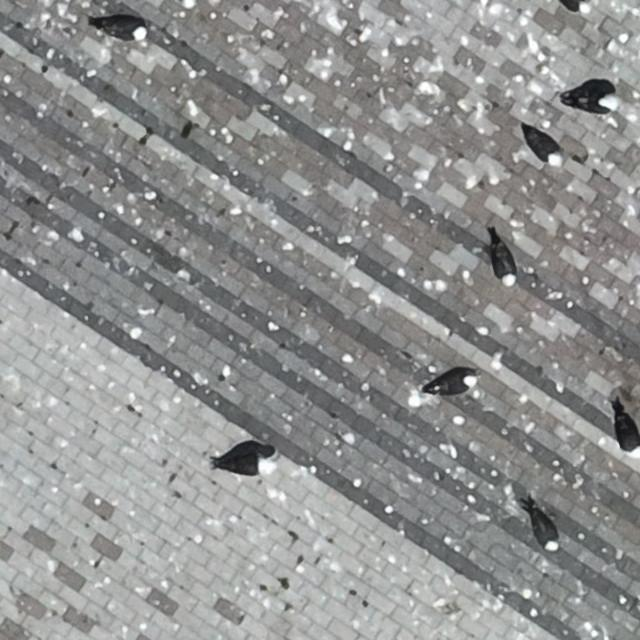umineko: (221, 452, 271, 474), (529, 131, 561, 162), (100, 17, 146, 38), (431, 373, 474, 394), (617, 415, 639, 455), (567, 92, 613, 111), (492, 250, 514, 286), (538, 514, 559, 550), (559, 0, 587, 12)
